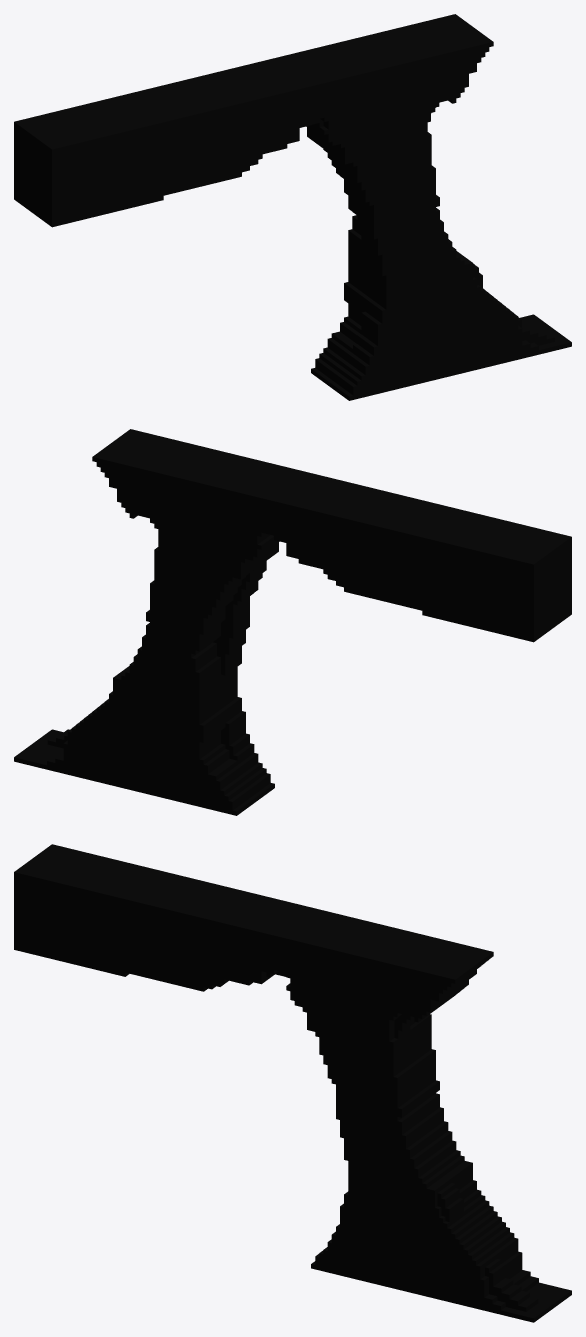
Rendered from Cave_Front.obj.
3 views of the same model, one above another, from view 1: azimuth 30°, elevation 25°; view 2: azimuth 150°, elevation 25°; view 3: azimuth 330°, elevation 25° (orthographic).
Size of the model in its own units: 126 by 75 by 16.
